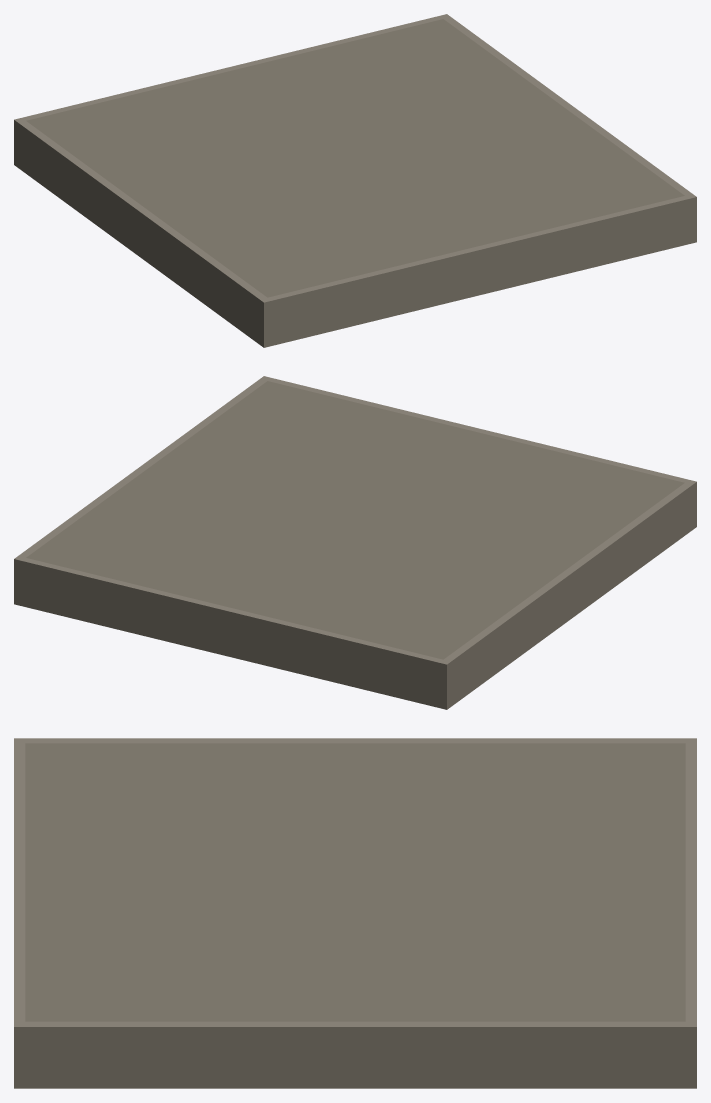
Rendered from ConcrateSlabs_A_2_1.fbx.
3 renders of one model, top to bottom at view 1: azimuth 30°, elevation 25°; view 2: azimuth 150°, elevation 25°; view 3: azimuth 270°, elevation 25°, orthographic. The views are drawn at different scales.
Visible parts, largest first — view 1: ConcrateSlabs_A_2_1; view 2: ConcrateSlabs_A_2_1; view 3: ConcrateSlabs_A_2_1.
Part boxes in pixels (x1,y1,x2,y2): ConcrateSlabs_A_2_1: [14, 14, 696, 347]; ConcrateSlabs_A_2_1: [14, 376, 696, 709]; ConcrateSlabs_A_2_1: [14, 738, 696, 1088].
Size of the model in its own units: 400 by 40 by 400.
